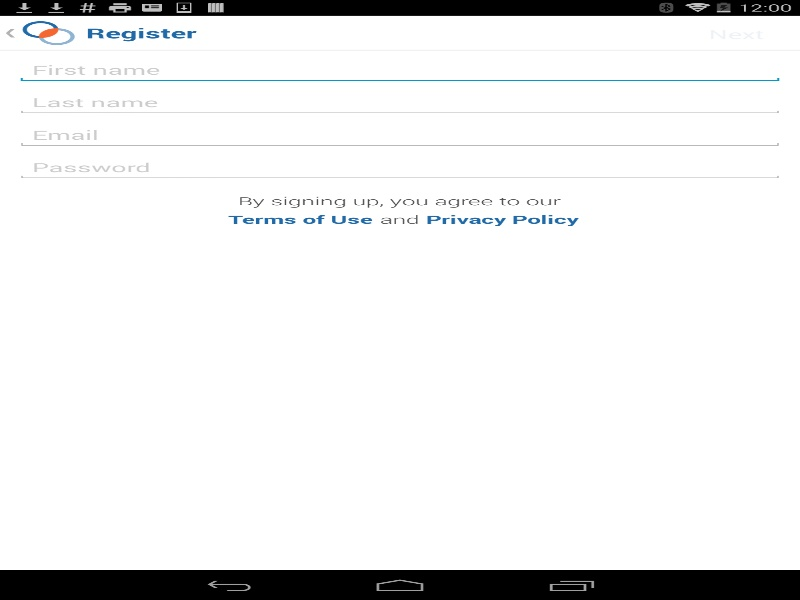Input: (16, 56, 784, 83), (16, 121, 784, 148), (16, 89, 784, 115), (16, 154, 784, 180)
